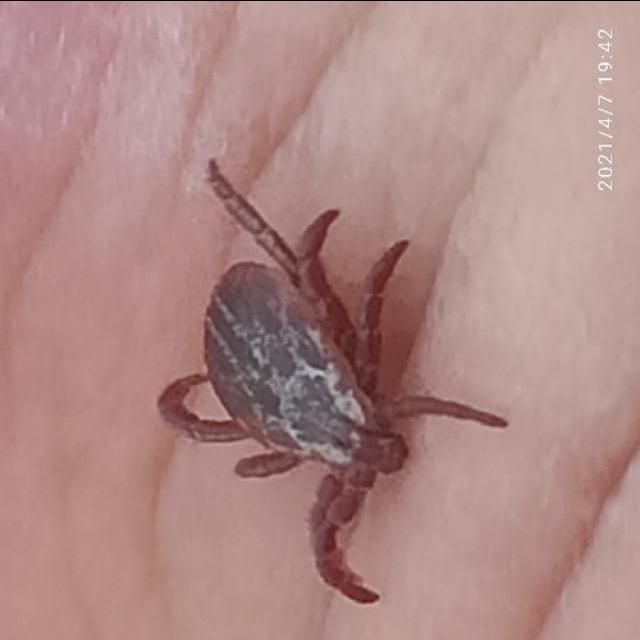Dermacentor Reticulatus-M: (161, 166, 507, 603)
